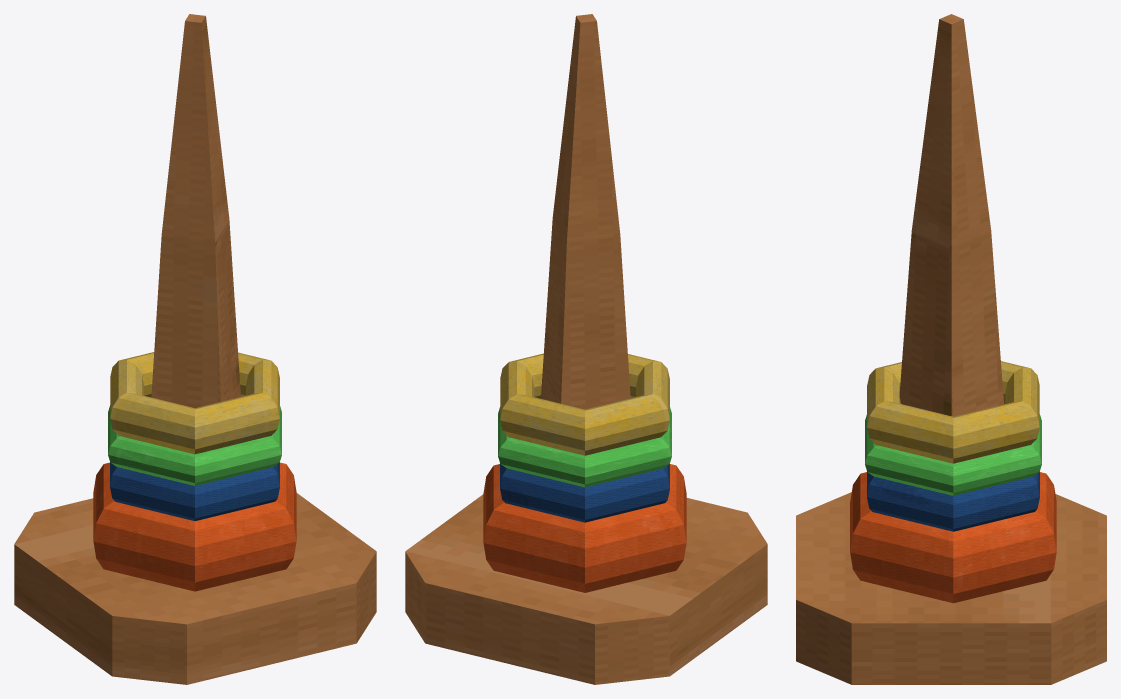
Rendered from piramide.fbx.
3 views of the same model, side by side, from view 1: azimuth 30°, elevation 25°; view 2: azimuth 150°, elevation 25°; view 3: azimuth 270°, elevation 25° (orthographic).
Parts seen in each view (by area): view 1: Cube.079, Torus, Torus.003, Torus.001, Torus.002; view 2: Cube.079, Torus, Torus.003, Torus.001, Torus.002; view 3: Cube.079, Torus, Torus.003, Torus.001, Torus.002.
Boxes of the visible parts, x1,y1,x2,y2 form: Cube.079: [14, 14, 376, 684]; Torus: [93, 462, 296, 591]; Torus.003: [110, 352, 279, 454]; Torus.001: [110, 462, 279, 520]; Torus.002: [108, 405, 281, 485]; Cube.079: [405, 14, 767, 684]; Torus: [483, 464, 686, 592]; Torus.003: [500, 353, 669, 455]; Torus.001: [500, 463, 669, 522]; Torus.002: [498, 407, 671, 487]; Cube.079: [796, 14, 1106, 684]; Torus: [850, 472, 1056, 603]; Torus.003: [867, 361, 1039, 463]; Torus.001: [867, 471, 1039, 531]; Torus.002: [865, 414, 1041, 495].
Bounding box in the file's own units: 0.2425 × 0.5167 × 0.2425.
Materials: 5 (5 with a texture image).
